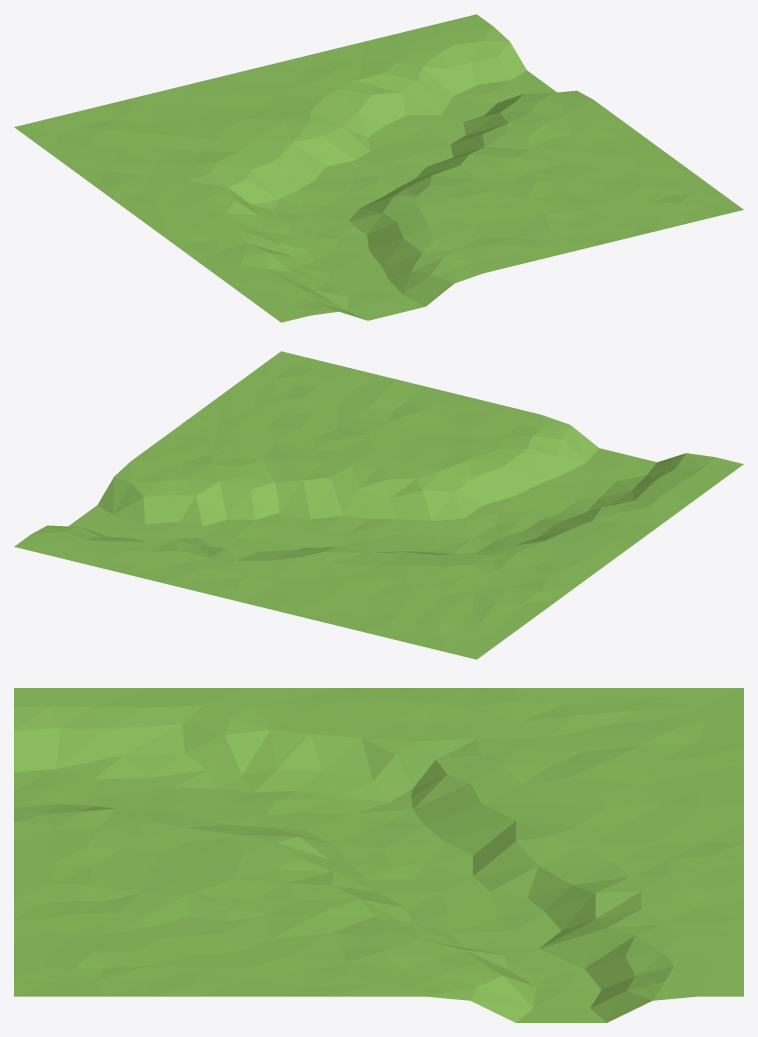
File: MT_River_M_b_01_LOD.fbx
3 views of the same model, one above another, from view 1: azimuth 30°, elevation 25°; view 2: azimuth 150°, elevation 25°; view 3: azimuth 270°, elevation 25° (orthographic). The views are drawn at different scales.
Parts seen in each view (by area): view 1: MT_River_M_b_01_LOD0; view 2: MT_River_M_b_01_LOD0; view 3: MT_River_M_b_01_LOD0.
Part boxes in pixels (left/top/right/bottom): MT_River_M_b_01_LOD0: left=14, top=14, right=743, bottom=322; MT_River_M_b_01_LOD0: left=14, top=351, right=743, bottom=659; MT_River_M_b_01_LOD0: left=14, top=688, right=743, bottom=1022.
Size of what is drawn, in the model's own units: 5000 by 225 by 5000.
